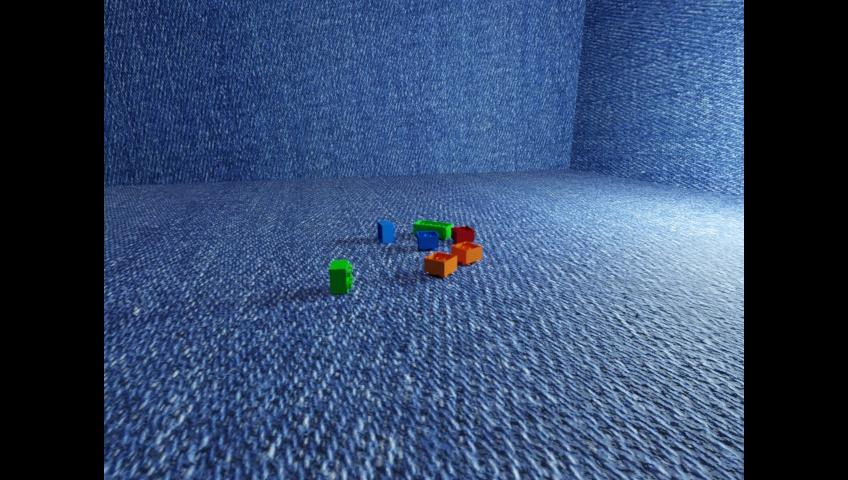2x2_blue: (416, 230, 438, 250), (377, 220, 394, 243)
2x2_green: (328, 259, 352, 293)
2x2_orange: (424, 251, 456, 277), (451, 241, 481, 265)
2x2_red: (451, 226, 474, 243)
4x2_green: (414, 220, 453, 240)
